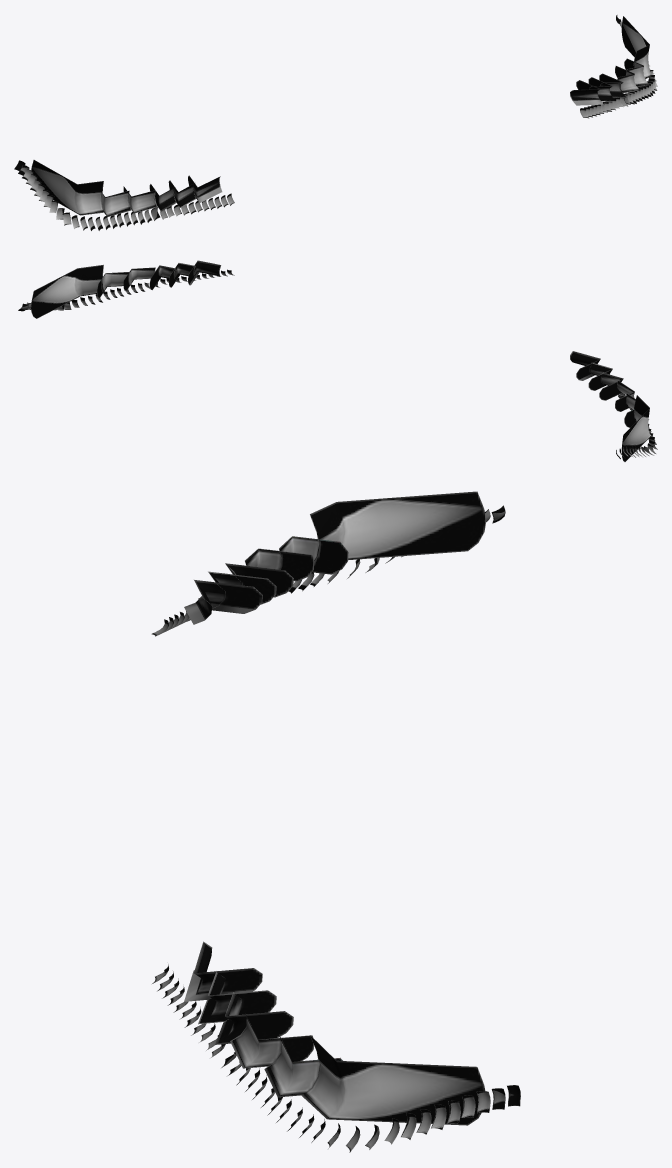
Rendered from reflectors.glb.
The picture shows the model from 3 angles, top to bottom: view 1: azimuth 30°, elevation 25°; view 2: azimuth 150°, elevation 25°; view 3: azimuth 270°, elevation 25°; orthographic projection. The views are drawn at different scales.
Parts seen in each view (by area): view 1: reflectors; view 2: reflectors; view 3: reflectors.
Boxes of the visible parts, <box> form: reflectors: <box>14,15,657,230</box>; reflectors: <box>18,260,657,461</box>; reflectors: <box>151,491,520,1152</box>.
Size of the model in its own units: 1.5 by 0.1126 by 0.3949.
1 material, 1 textured.
